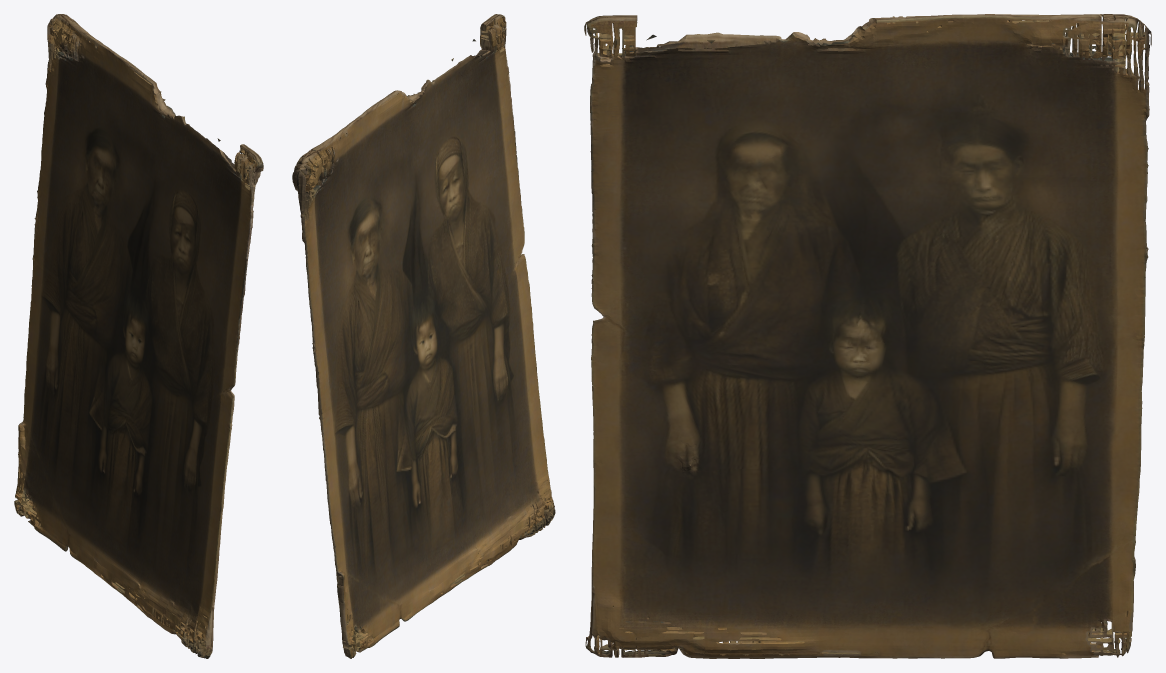
File: Okiku_Family_Portrait_0424083901_texture.fbx
3 renders of one model, left to right at view 1: azimuth 30°, elevation 25°; view 2: azimuth 150°, elevation 25°; view 3: azimuth 270°, elevation 25°, orthographic. The views are drawn at different scales.
Parts seen in each view (by area): view 1: temp; view 2: temp; view 3: temp.
Boxes of the visible parts, x1,y1,x2,y2 form: temp: (14,14,263,658); temp: (292,14,555,658); temp: (584,14,1151,658).
Bounding box in the file's own units: 25.56 × 200 × 152.
1 material, 1 textured.
